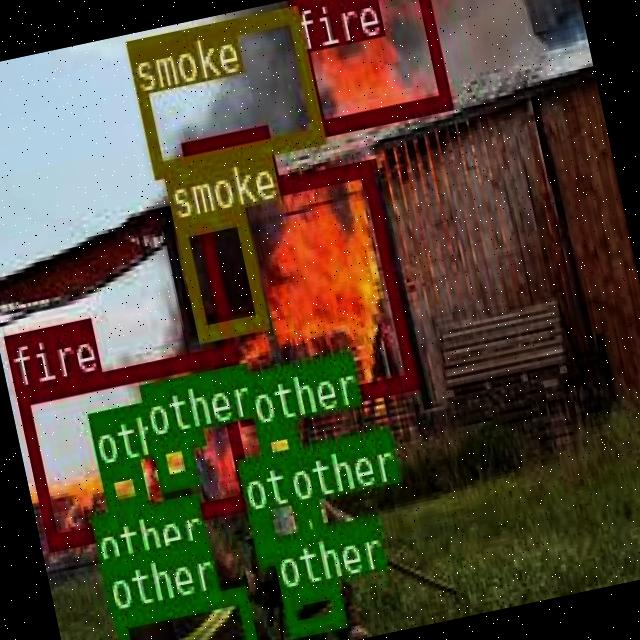fire: (190, 156, 414, 422), (13, 345, 250, 547), (285, 0, 448, 132)
smoke: (122, 3, 322, 175), (172, 205, 265, 340)
